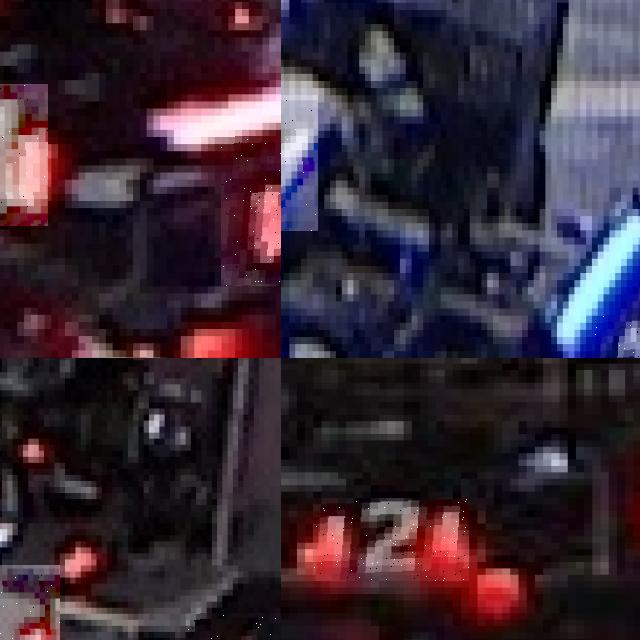B3: (281, 95, 318, 230)
R2: (314, 498, 469, 581)
R4: (221, 136, 281, 286), (0, 84, 48, 226)
